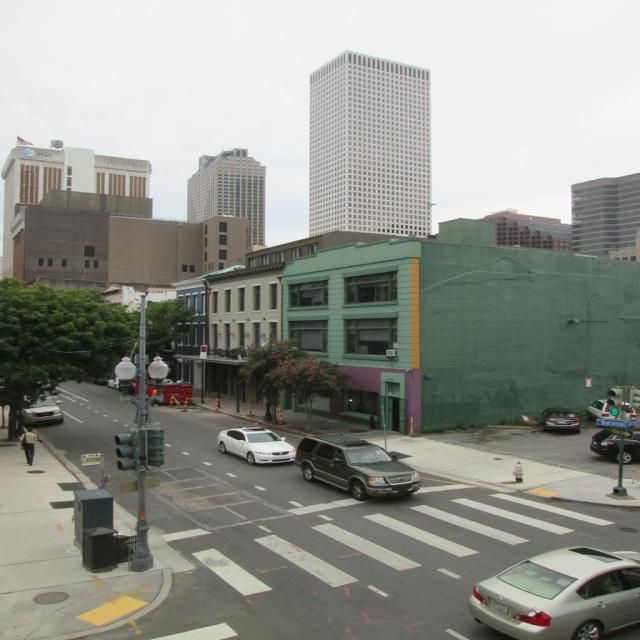car: (292, 431, 421, 498), (538, 405, 579, 433)
